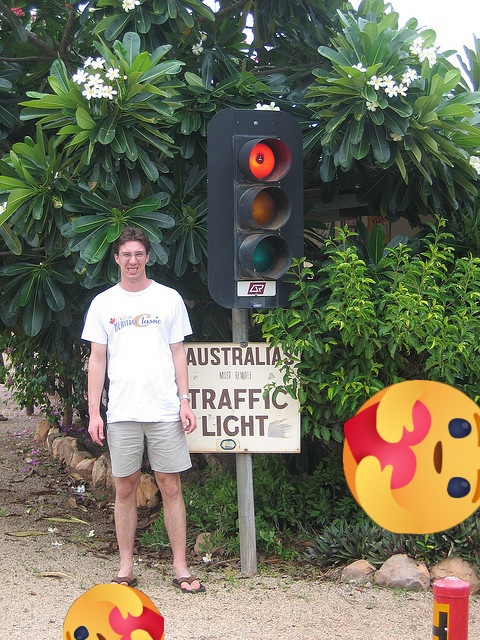care: (343, 380, 480, 534), (63, 584, 164, 640)
